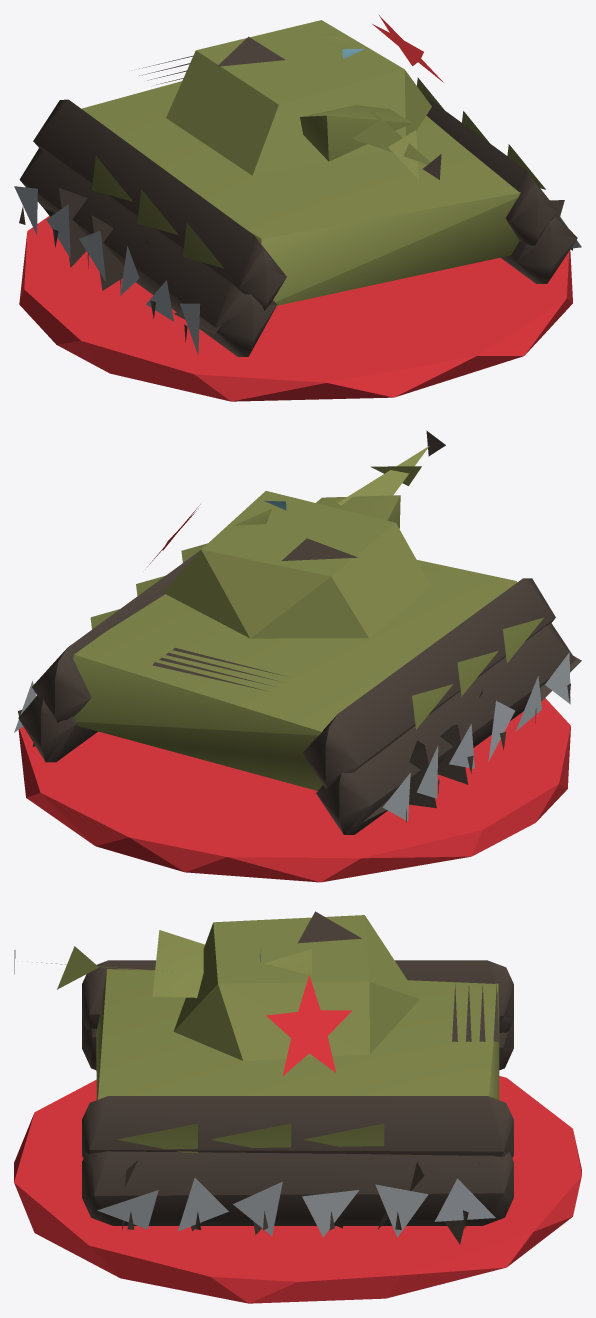
Rendered from soviet_union_tank_lod1.glb.
3 renders of one model, top to bottom at view 1: azimuth 30°, elevation 25°; view 2: azimuth 150°, elevation 25°; view 3: azimuth 270°, elevation 25°, orthographic. The views are drawn at different scales.
Parts seen in each view (by area): view 1: body_hull, base_pedestal; view 2: body_hull, base_pedestal; view 3: body_hull, base_pedestal.
Boxes of the visible parts, x1,y1,x2,y2 form: body_hull: (14, 14, 581, 356); base_pedestal: (19, 216, 572, 401); body_hull: (14, 430, 581, 834); base_pedestal: (18, 698, 570, 882); body_hull: (14, 911, 513, 1244); base_pedestal: (14, 1076, 581, 1303).
Bounding box in the file's own units: 0.7791 × 0.3813 × 0.7771.
